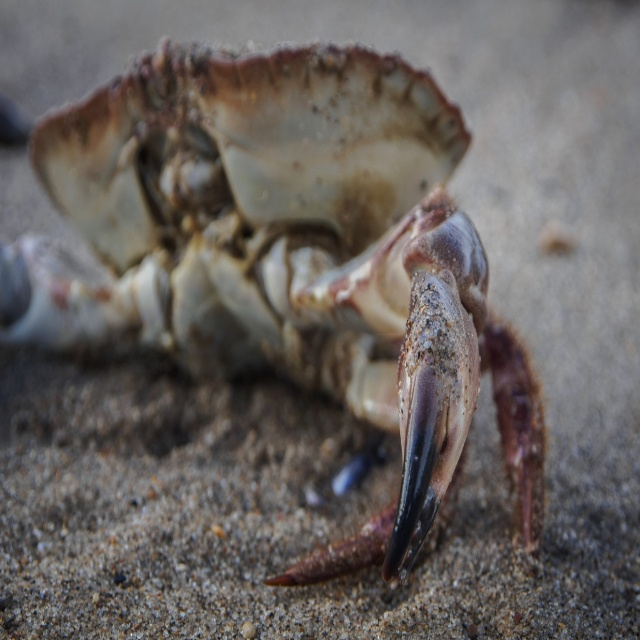Crab: (0, 37, 545, 590)
